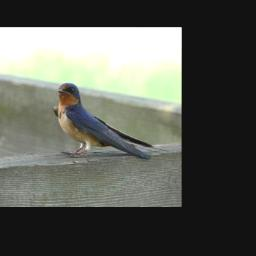Swallow: (52, 81, 171, 161)
